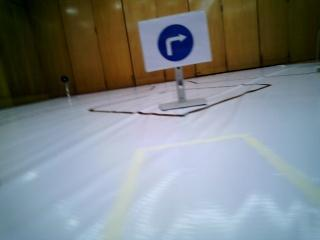right: (140, 23, 204, 63)
